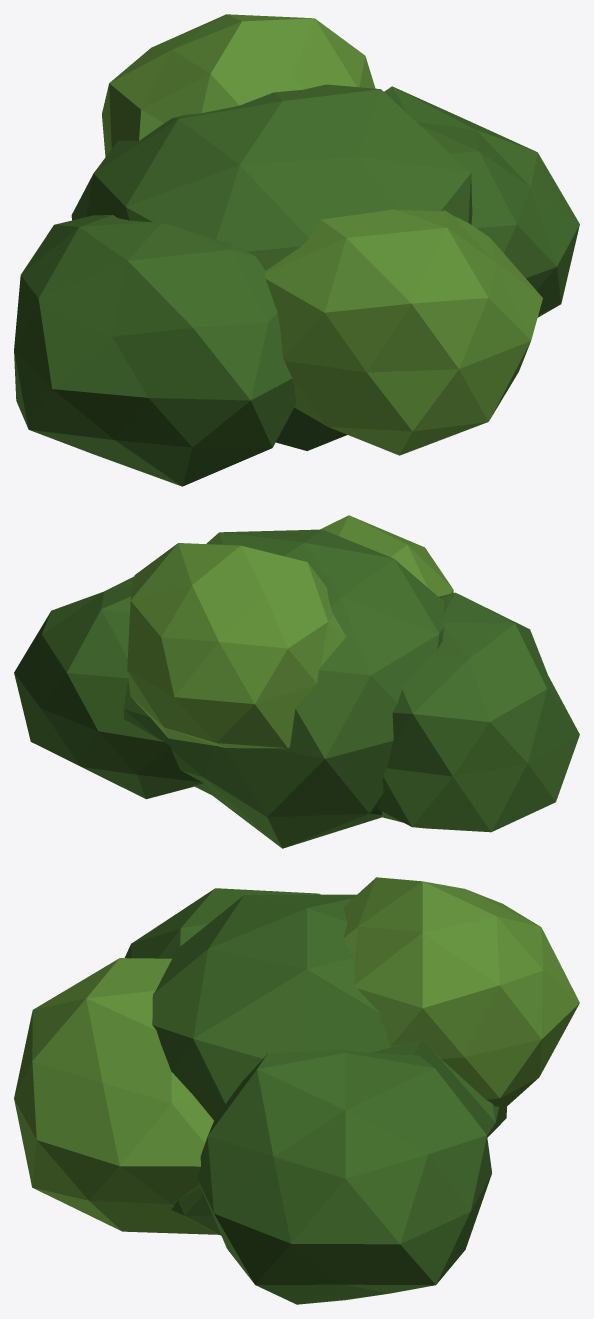
Rendered from Tree_Bush_Green.fbx.
The picture shows the model from 3 angles, top to bottom: view 1: azimuth 30°, elevation 25°; view 2: azimuth 150°, elevation 25°; view 3: azimuth 270°, elevation 25°; orthographic projection. The views are drawn at different scales.
Visible parts, largest first — view 1: Tree_Bush_Green; view 2: Tree_Bush_Green; view 3: Tree_Bush_Green.
Boxes of the visible parts, x1,y1,x2,y2 form: Tree_Bush_Green: [14, 14, 579, 486]; Tree_Bush_Green: [14, 515, 579, 848]; Tree_Bush_Green: [14, 877, 579, 1304].
Bounding box in the file's own units: 1.72 × 1.01 × 1.47.
